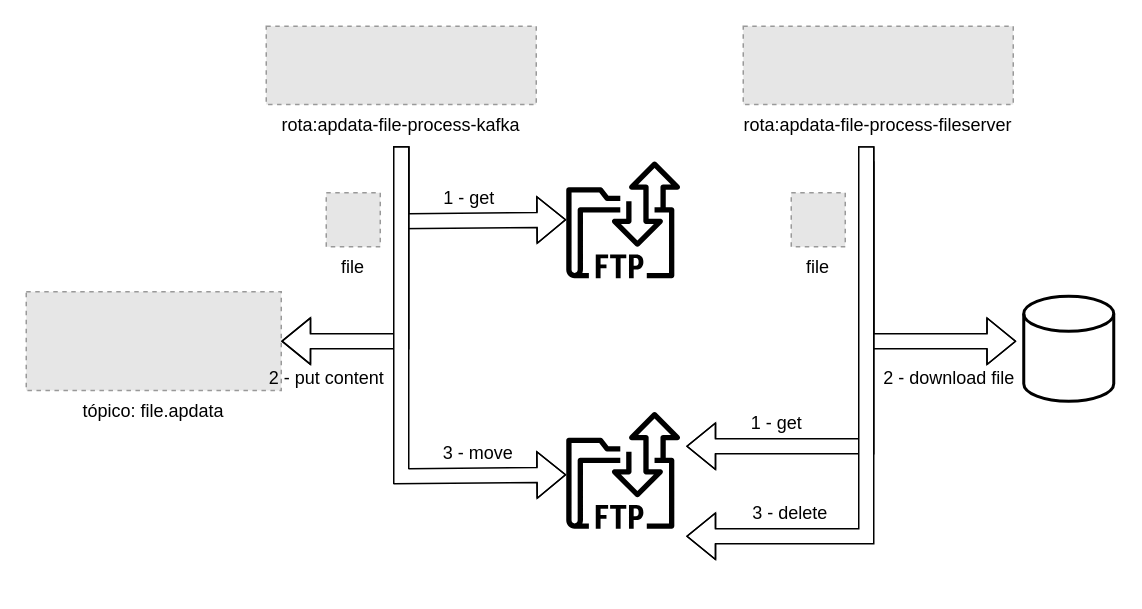
Some shapes in this 1142 by 609 pixel diagram are drawn without their labels. Grey dashed boxes stand in for pictures. Here are the shapes that lost their labels. From the top down, the centre of each, then its label:
At point (623, 219): "ADP Server /process".
At point (1068, 348): "File Server".
At point (623, 469): "ADP Server /processed".
